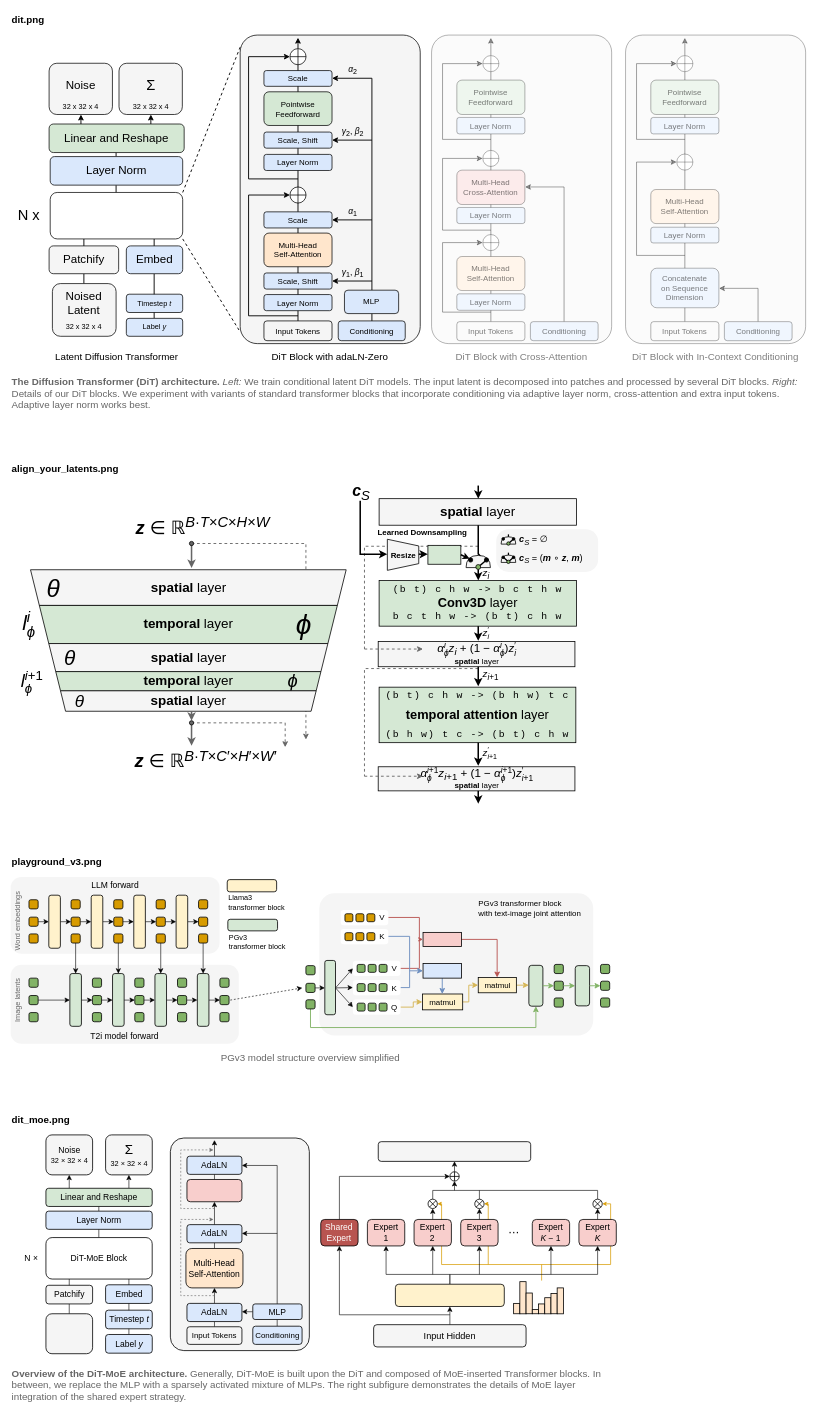
The diagram is 827 pixels wide and 1413 high, and some of its shapes have lost their labels. Each missing label, with the box of its shape:
Add: (528, 965, 543, 1006)
Conv2D: (427, 545, 461, 564)
DiT Block: (50, 192, 183, 239)
FFN: (574, 965, 590, 1006)
K concat: (422, 963, 462, 978)
MoE: (186, 1179, 242, 1202)
Noised Latent 32 × 32 × 4: (45, 1313, 93, 1354)
Output Hidden: (378, 1141, 531, 1161)
QKV Projection: (324, 960, 336, 1015)
Router: (395, 1284, 504, 1307)
V concat: (422, 932, 462, 946)
